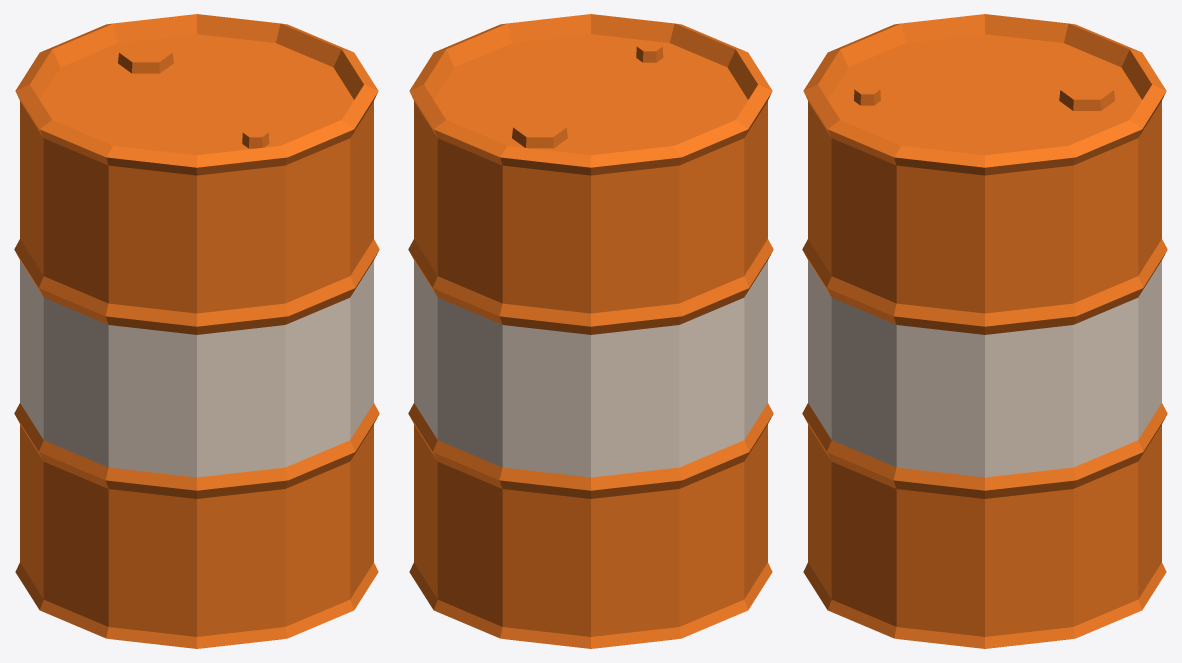
Rendered from barrel.glb.
3 views of the same model, side by side, from view 1: azimuth 30°, elevation 25°; view 2: azimuth 150°, elevation 25°; view 3: azimuth 270°, elevation 25° (orthographic).
Parts seen in each view (by area): view 1: barrel; view 2: barrel; view 3: barrel.
Part boxes in pixels (left/top/right/bottom): barrel: left=14, top=14, right=379, bottom=648; barrel: left=408, top=14, right=773, bottom=648; barrel: left=802, top=14, right=1167, bottom=648.
Size of the model in its own units: 0.806 by 1.2 by 0.806.
1 material, 1 textured.
